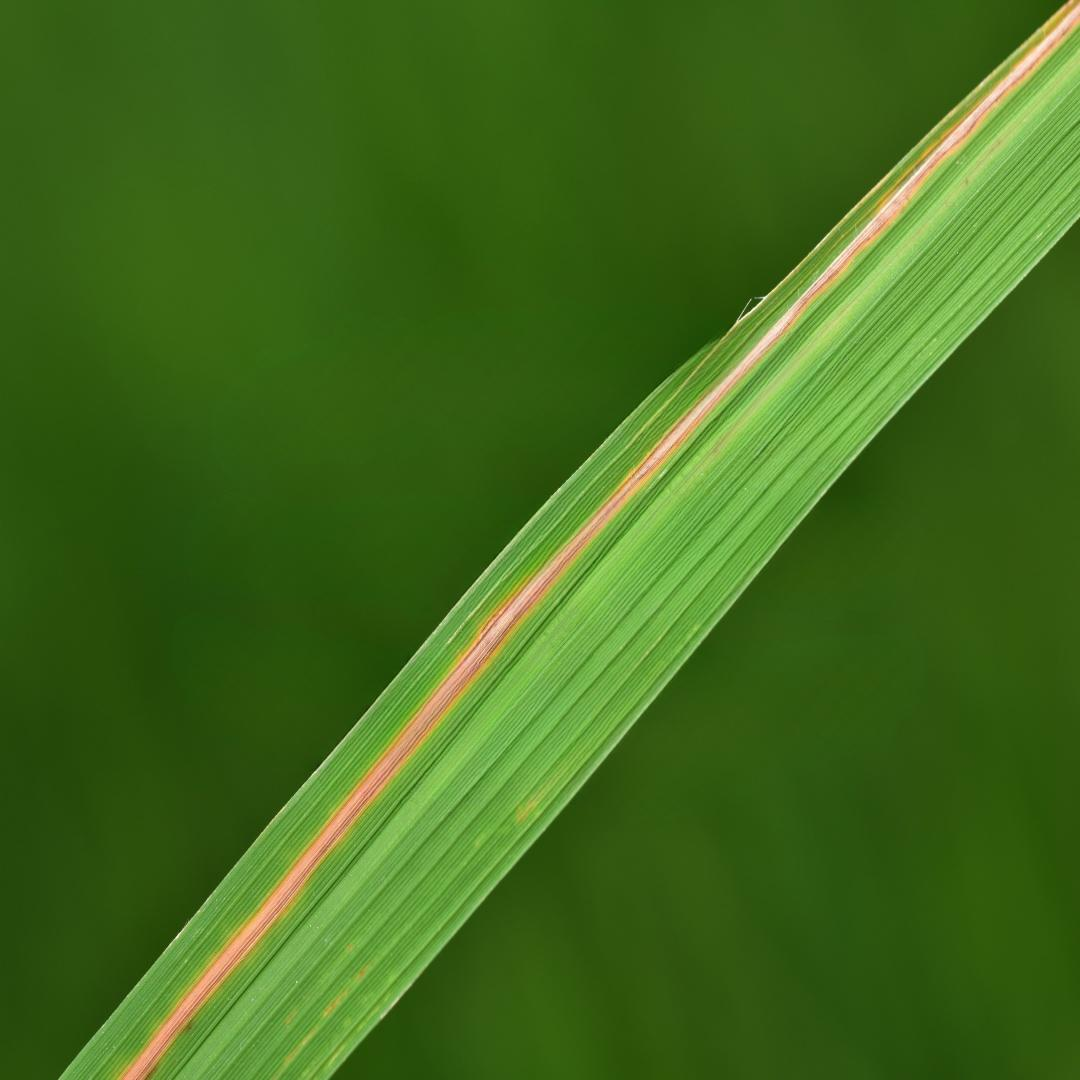BLB: (122, 4, 1079, 1079)
